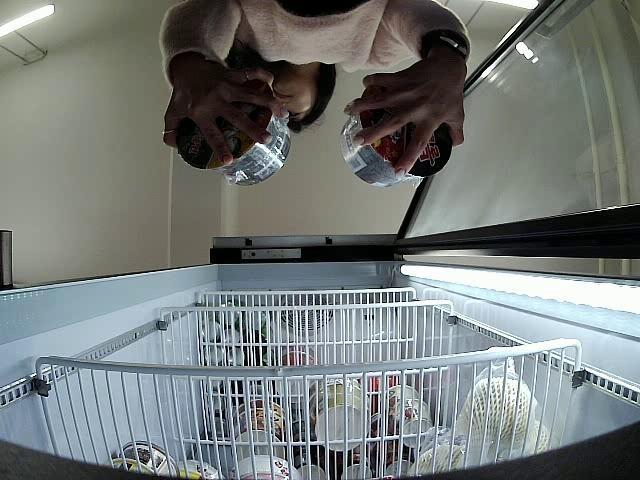07_buldak_L: (163, 69, 290, 183), (344, 86, 453, 185)
